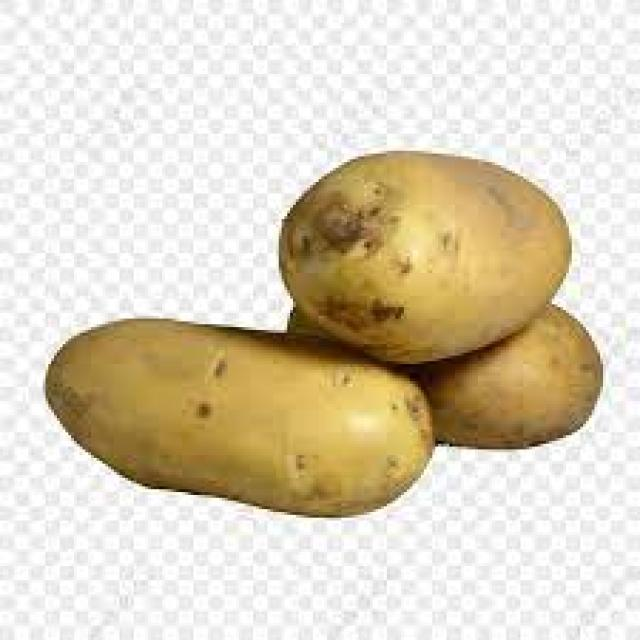Potato: (38, 303, 450, 556), (256, 141, 588, 367), (334, 272, 600, 454)
